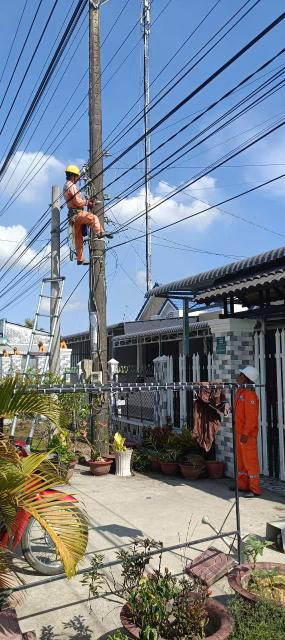gloves: (87, 193, 99, 211)
harness: (62, 205, 96, 221)
helmet: (237, 362, 264, 385), (61, 162, 89, 182)
shoes: (240, 489, 265, 498), (96, 231, 120, 240), (229, 481, 246, 493), (75, 260, 94, 267)
